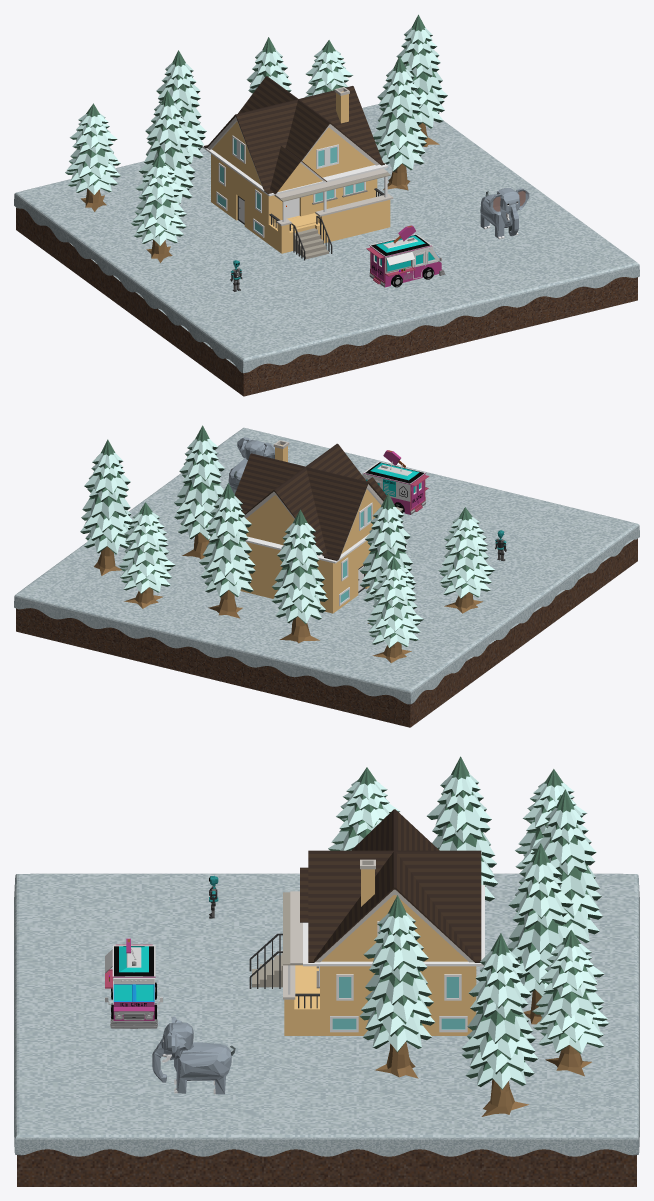
3 renders of one model, top to bottom at view 1: azimuth 30°, elevation 25°; view 2: azimuth 150°, elevation 25°; view 3: azimuth 270°, elevation 25°, orthographic. The views are drawn at different scales.
Visible parts, largest first — view 1: Cube.003, Cube.235, VEHICLES_ICE_CREAM_TRUCK, ANIMAL_ELEFANTE; view 2: Cube.003, Cube.235, VEHICLES_ICE_CREAM_TRUCK, ANIMAL_ELEFANTE; view 3: Cube.003, Cube.235, VEHICLES_ICE_CREAM_TRUCK, ANIMAL_ELEFANTE.
Part boxes in pixels (left/top/right/bottom): Cube.003: left=14, top=14, right=639, bottom=396; Cube.235: left=202, top=76, right=393, bottom=260; VEHICLES_ICE_CREAM_TRUCK: left=366, top=225, right=445, bottom=287; ANIMAL_ELEFANTE: left=480, top=188, right=529, bottom=239; Cube.003: left=14, top=425, right=639, bottom=727; Cube.235: left=235, top=440, right=405, bottom=613; VEHICLES_ICE_CREAM_TRUCK: left=362, top=450, right=429, bottom=514; ANIMAL_ELEFANTE: left=228, top=437, right=274, bottom=494; Cube.003: left=14, top=756, right=639, bottom=1186; Cube.235: left=249, top=809, right=484, bottom=1035; VEHICLES_ICE_CREAM_TRUCK: left=105, top=938, right=162, bottom=1028; ANIMAL_ELEFANTE: left=152, top=1016, right=235, bottom=1094.
Bounding box in the file's own units: 4040 × 1665 × 4040.
42 materials, 3 textured.
